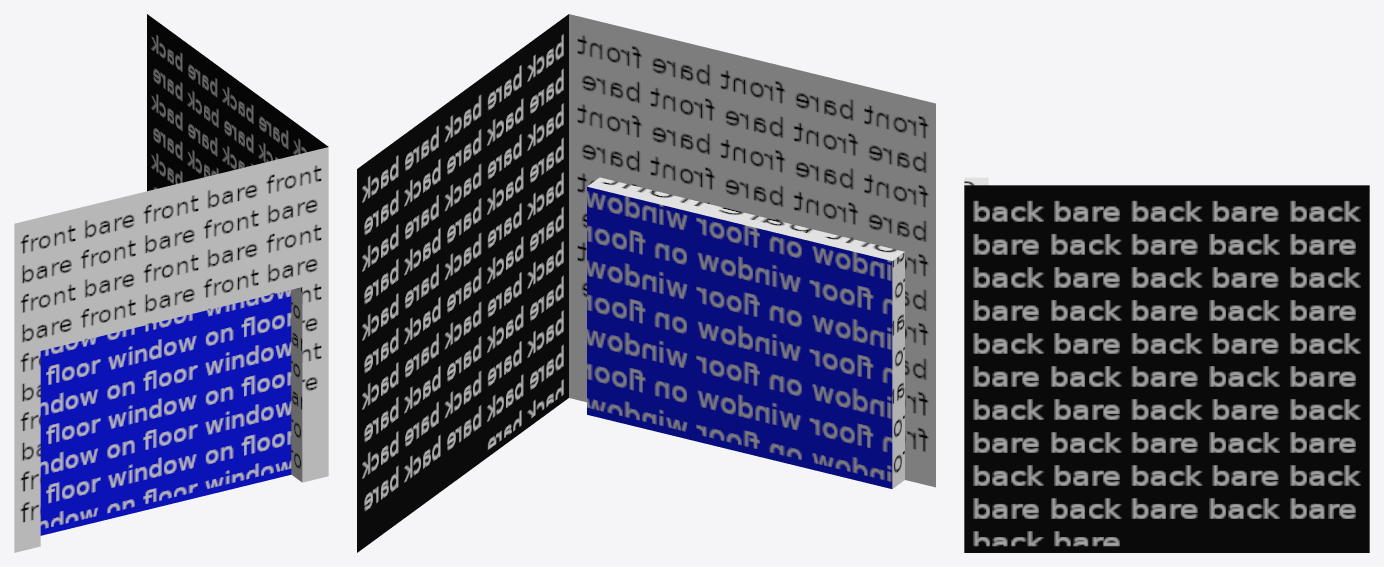
Rendered from right_edge_window_on_floor.gltf.
The picture shows the model from 3 angles, left to right: view 1: azimuth 30°, elevation 25°; view 2: azimuth 150°, elevation 25°; view 3: azimuth 270°, elevation 25°; orthographic projection. The views are drawn at different scales.
Parts seen in each view (by area): view 1: right_edge_window_on_floor; view 2: right_edge_window_on_floor; view 3: right_edge_window_on_floor.
Boxes of the visible parts, box(x1,y1,x2,y2) form: right_edge_window_on_floor: box(14, 14, 328, 552); right_edge_window_on_floor: box(357, 14, 935, 552); right_edge_window_on_floor: box(964, 177, 1369, 552).
Bounding box in the file's own units: 5 × 5 × 5.
3 materials, 3 textured.
